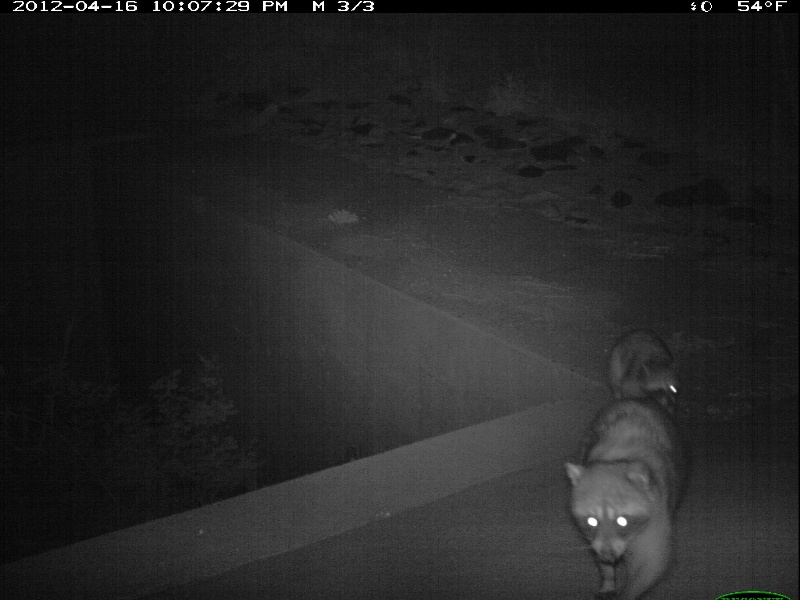raccoon: (562, 401, 691, 587), (605, 328, 687, 420)
